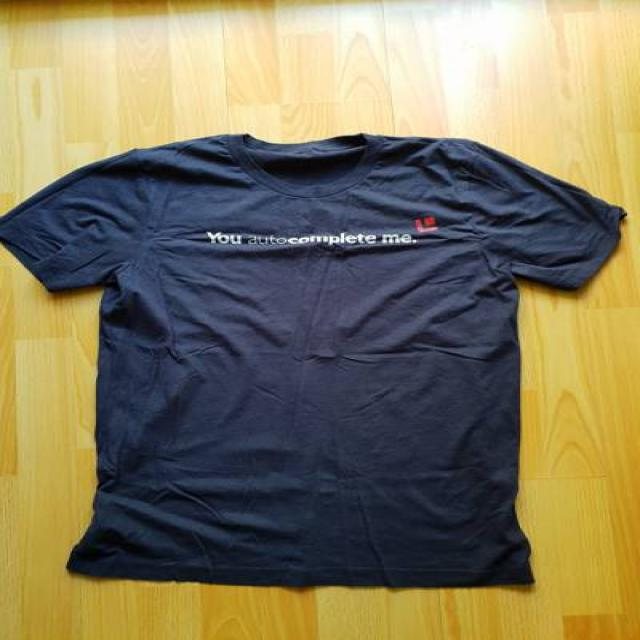shirt: (0, 132, 631, 589)
